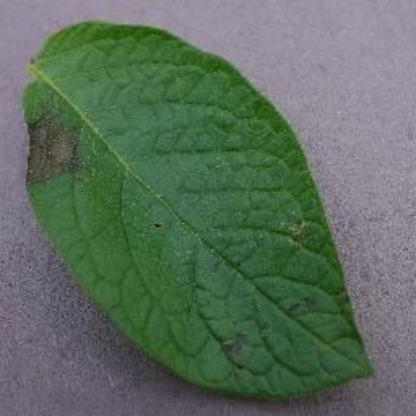Late-Blight: (14, 12, 394, 404)
